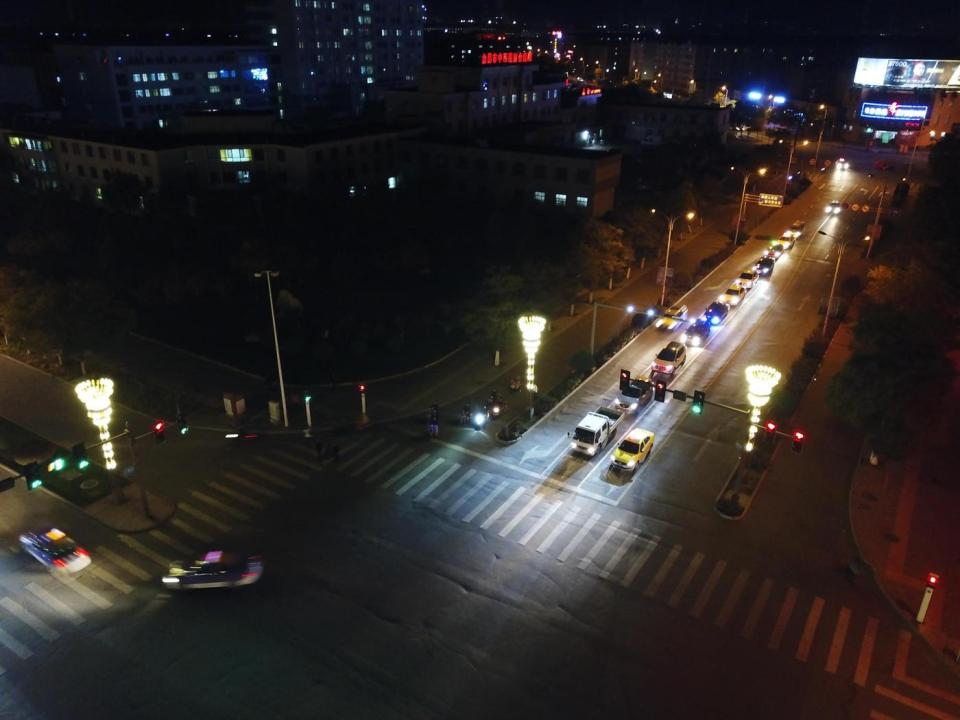car: (162, 550, 262, 589), (18, 526, 90, 576), (611, 429, 654, 473), (615, 376, 654, 414), (651, 342, 686, 375), (656, 304, 687, 330), (682, 319, 710, 347), (702, 301, 730, 326), (720, 284, 745, 306), (736, 269, 758, 288), (754, 256, 775, 274), (776, 231, 794, 249), (764, 242, 784, 258), (826, 199, 840, 214), (835, 157, 849, 169), (775, 126, 789, 134), (731, 123, 744, 131), (573, 75, 582, 80), (624, 80, 632, 85), (563, 70, 568, 74)
truck: (567, 405, 628, 457)
van: (788, 219, 805, 238), (640, 135, 662, 146)
